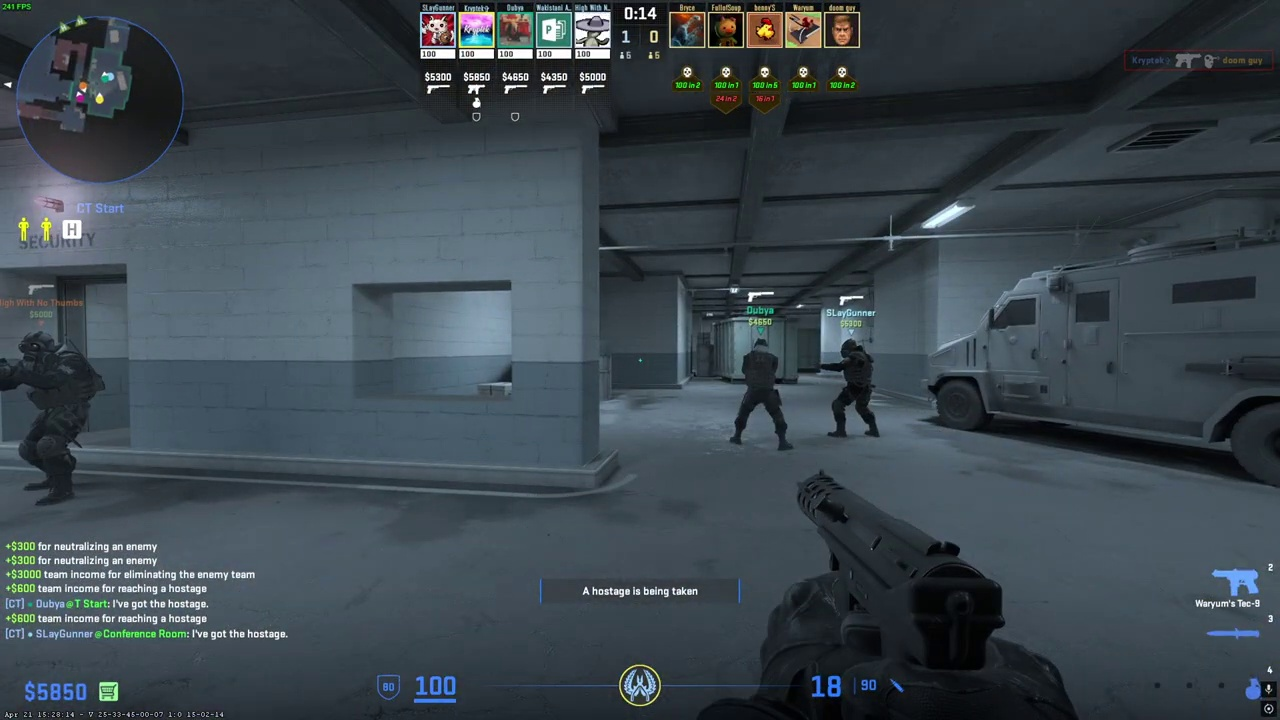CT: (7, 331, 92, 505), (733, 339, 787, 450), (829, 340, 879, 438)
